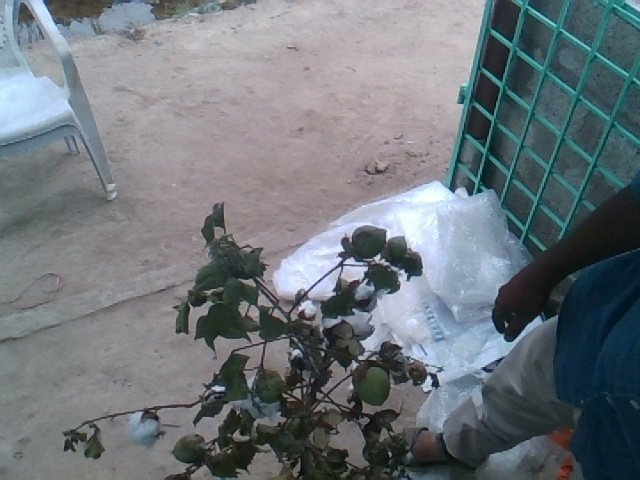cotton: (130, 411, 161, 443)
